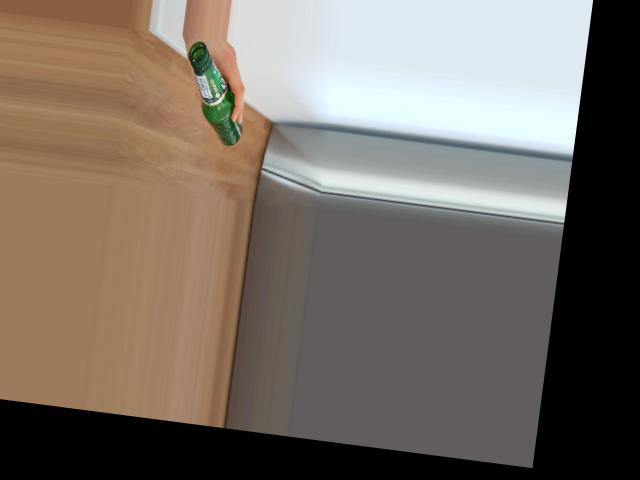beer: (176, 39, 252, 146)
